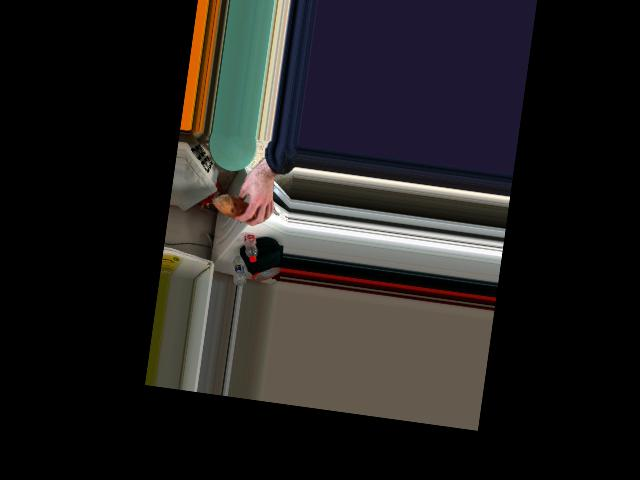sweet_potato: (212, 193, 263, 221)
